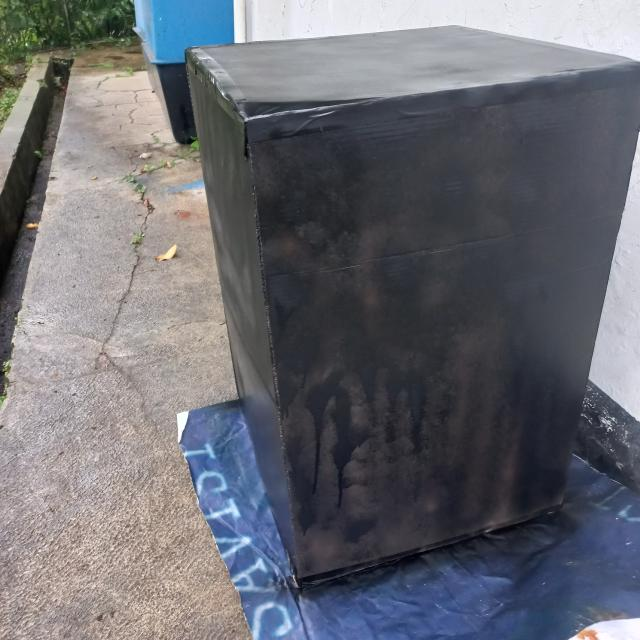obstacle: (184, 25, 640, 590)
